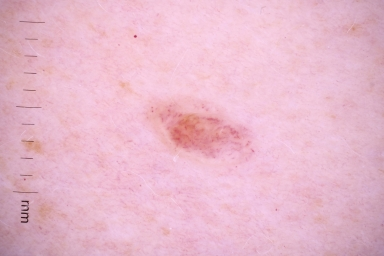nevus: (161, 105, 246, 160)
